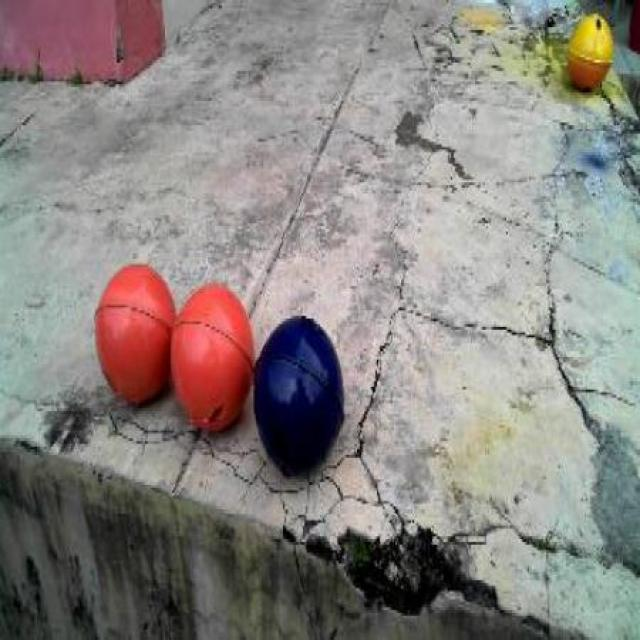buoy: (248, 304, 352, 494), (166, 274, 260, 446), (87, 252, 180, 415), (563, 6, 619, 104)
